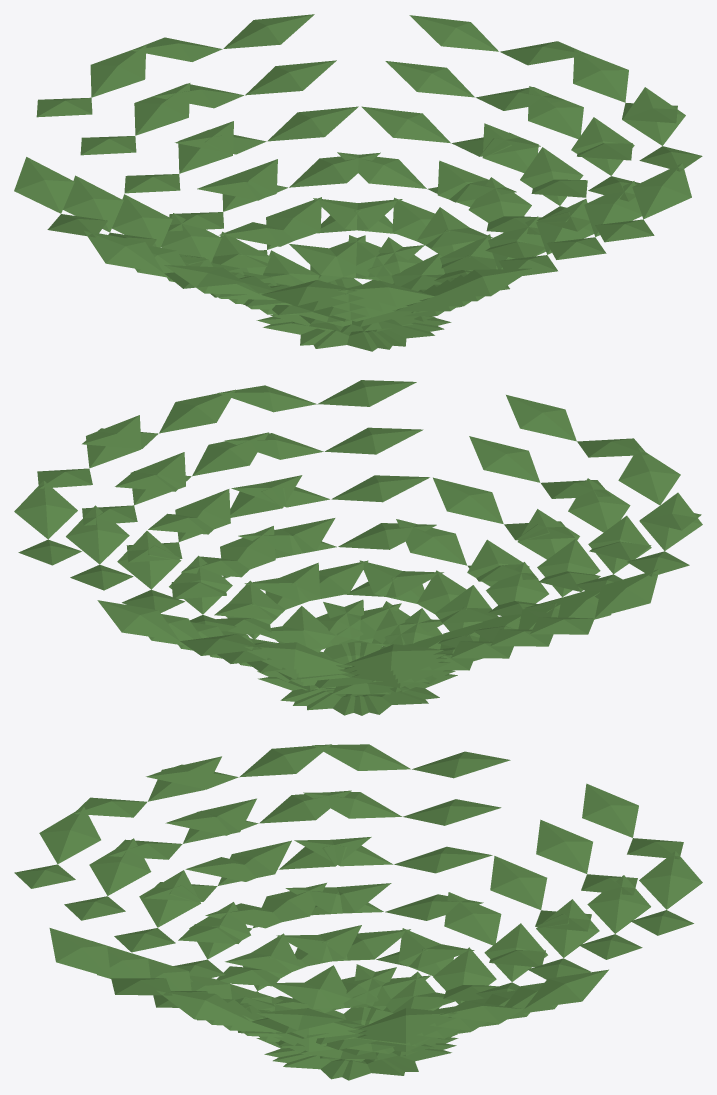
Rendered from vegetation-fern.lod0.glb.
3 renders of one model, top to bottom at view 1: azimuth 30°, elevation 25°; view 2: azimuth 150°, elevation 25°; view 3: azimuth 270°, elevation 25°, orthographic.
Parts seen in each view (by area): view 1: vegetation-fern__body; view 2: vegetation-fern__body; view 3: vegetation-fern__body.
Part boxes in pixels (x1=…): vegetation-fern__body: x1=14, y1=14, x2=702, y2=351; vegetation-fern__body: x1=14, y1=380, x2=702, y2=715; vegetation-fern__body: x1=14, y1=744, x2=702, y2=1080.
Bounding box in the file's own units: 1.5 × 0.415 × 1.5.
